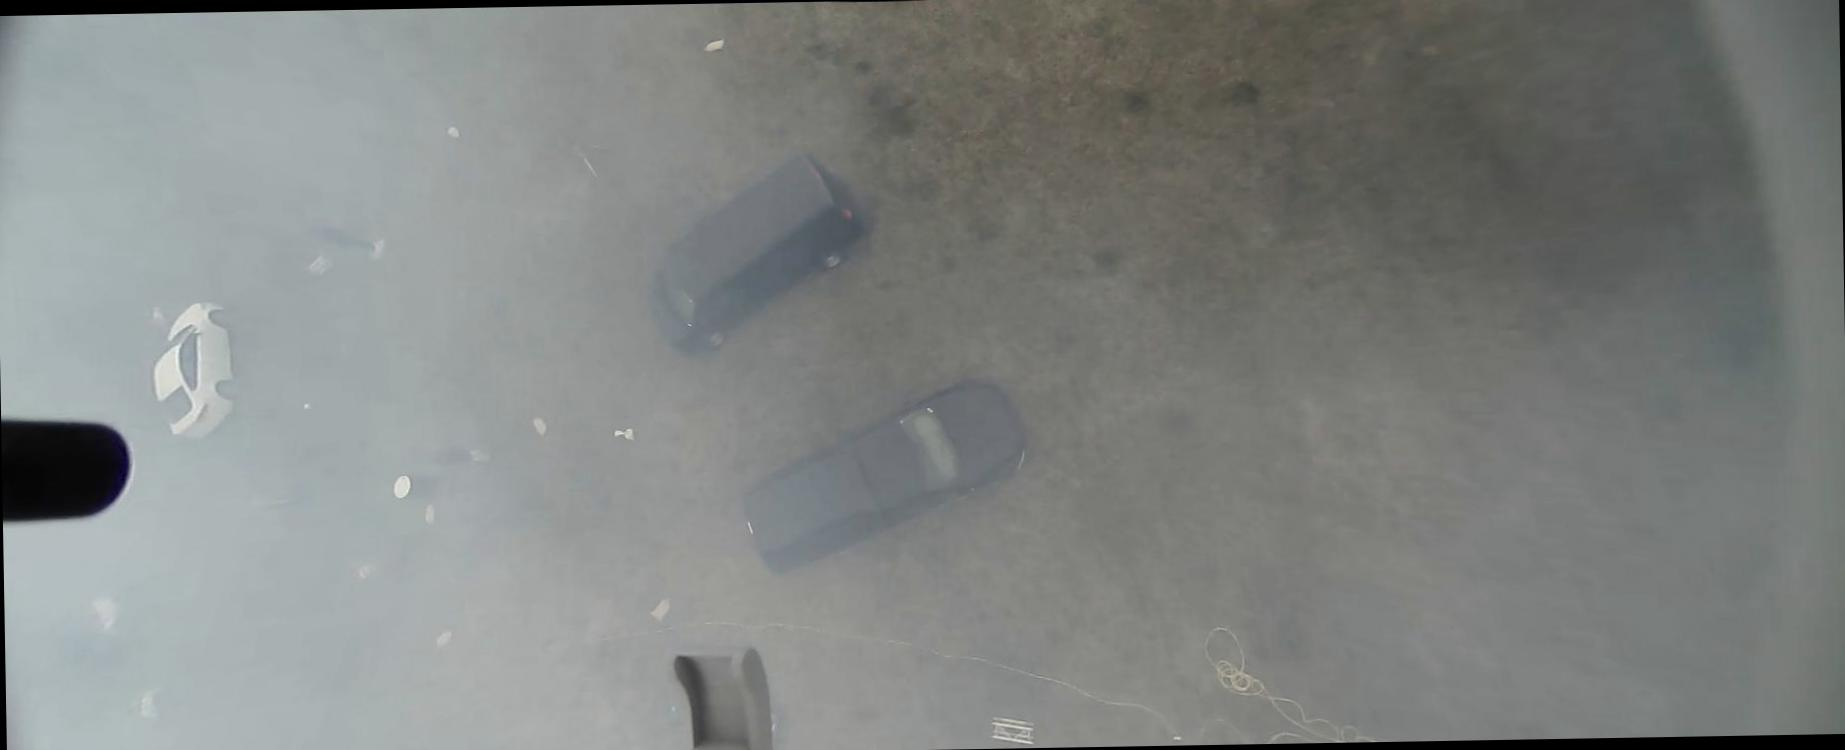vehicle: (736, 375, 1032, 577), (646, 151, 866, 356), (151, 300, 240, 440), (51, 595, 125, 650)
